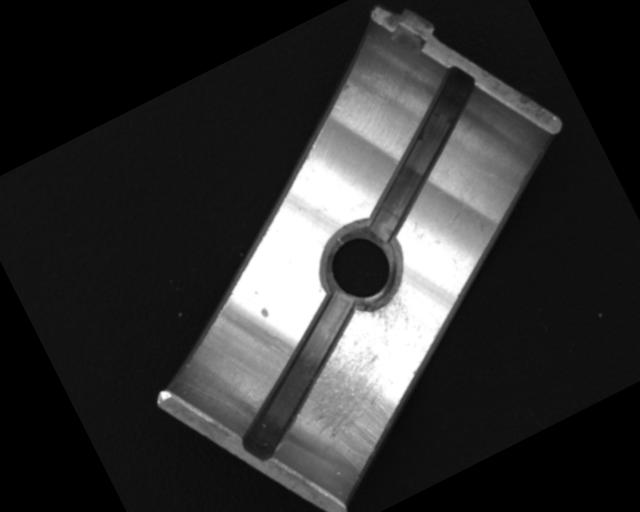bruise: (258, 305, 271, 321)
gap: (319, 60, 521, 246), (202, 289, 396, 465)
hole: (306, 213, 419, 326)
scratch: (273, 282, 469, 480)
